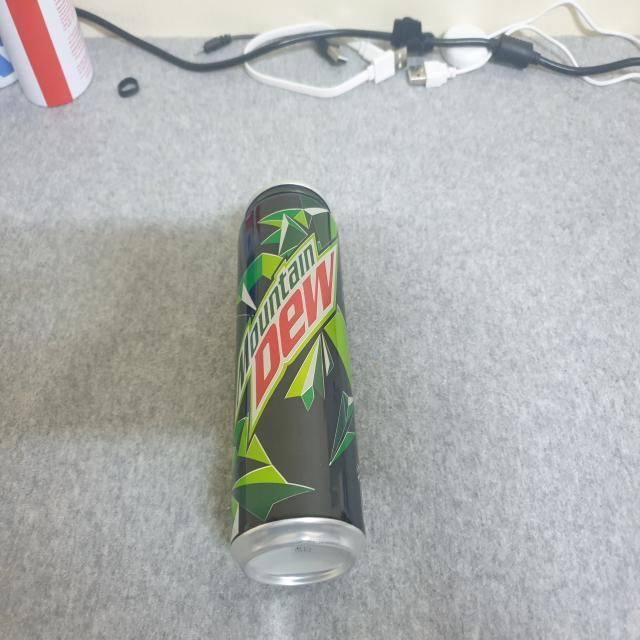can: (222, 178, 388, 599)
